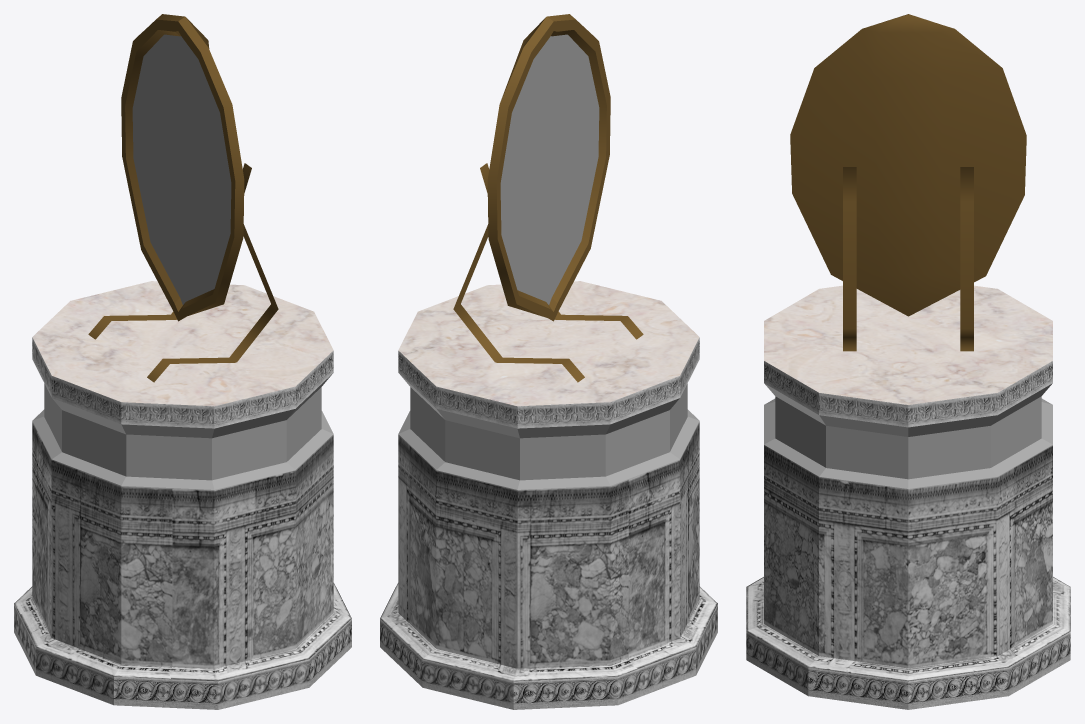
Rendered from GreekMirror.fbx.
3 renders of one model, left to right at view 1: azimuth 30°, elevation 25°; view 2: azimuth 150°, elevation 25°; view 3: azimuth 270°, elevation 25°, orthographic.
Visible parts, largest first — view 1: GreekMirror, MirrorFace; view 2: GreekMirror, MirrorFace; view 3: GreekMirror.
Part boxes in pixels (x1=…): GreekMirror: x1=14, y1=14, x2=351, y2=709; MirrorFace: x1=132, y1=34, x2=231, y2=304; GreekMirror: x1=380, y1=14, x2=717, y2=709; MirrorFace: x1=500, y1=34, x2=599, y2=304; GreekMirror: x1=746, y1=14, x2=1070, y2=709.
Bounding box in the file's own units: 88.51 × 179 × 84.18.
